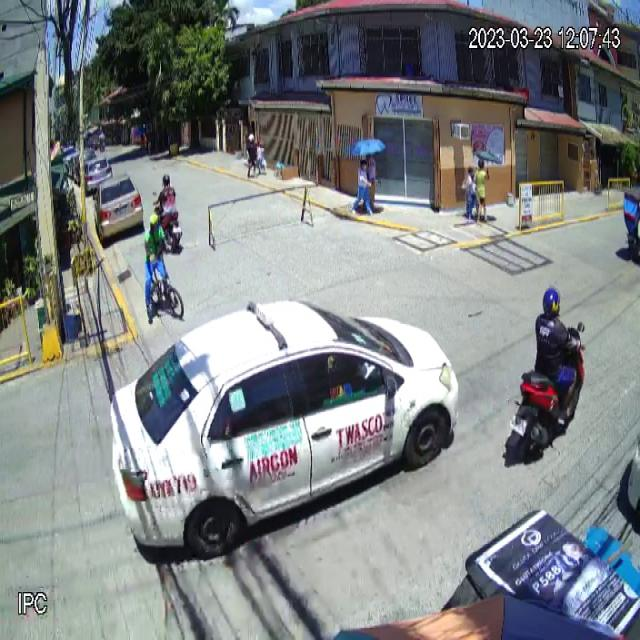Car: (108, 297, 457, 557), (94, 173, 144, 245)
Motorcycle: (503, 321, 586, 460)
